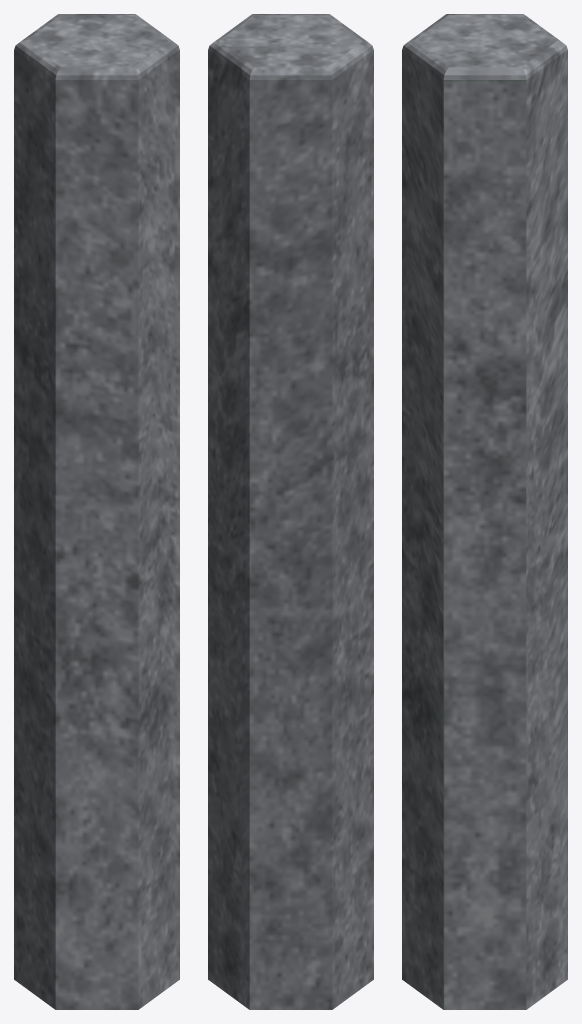
Rendered from pilier_3.gltf.
3 renders of one model, left to right at view 1: azimuth 30°, elevation 25°; view 2: azimuth 150°, elevation 25°; view 3: azimuth 270°, elevation 25°, orthographic.
Parts seen in each view (by area): view 1: Cylinder.001; view 2: Cylinder.001; view 3: Cylinder.001.
Boxes of the visible parts, left/top/right/bottom form: Cylinder.001: left=14, top=14, right=179, bottom=1009; Cylinder.001: left=208, top=14, right=373, bottom=1009; Cylinder.001: left=402, top=14, right=567, bottom=1009.
Bounding box in the file's own units: 0.1386 × 1 × 0.16.
Materials: 1 (1 with a texture image).
